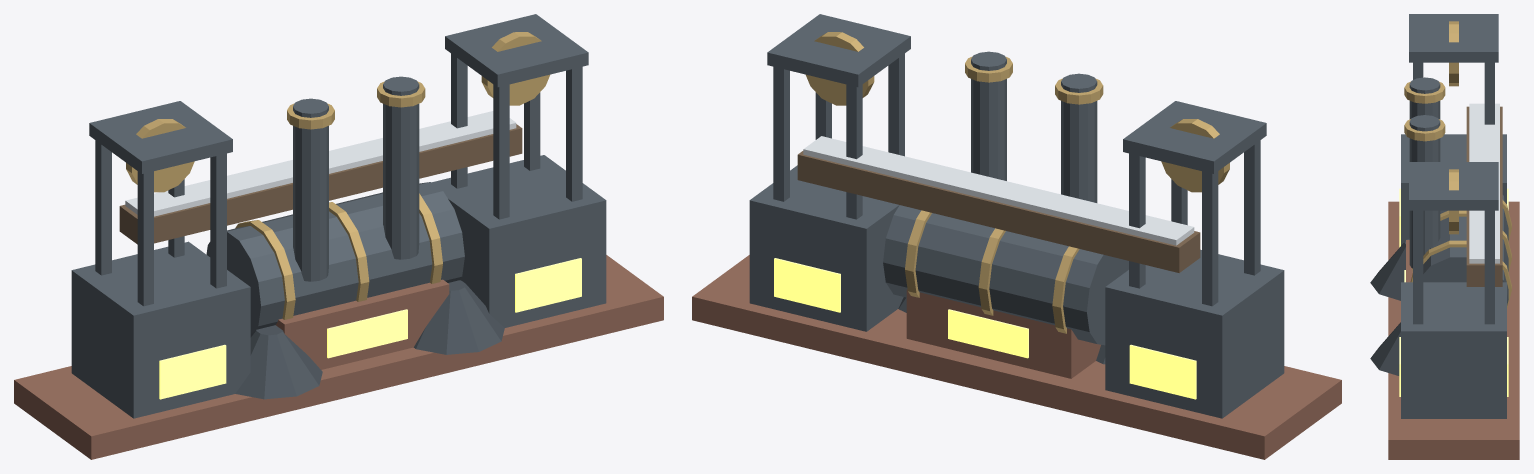
The model's file is advanced_coal_mine.glb.
The picture shows the model from 3 angles, left to right: view 1: azimuth 30°, elevation 25°; view 2: azimuth 150°, elevation 25°; view 3: azimuth 270°, elevation 25°; orthographic projection. The views are drawn at different scales.
Visible parts, largest first — view 1: AdvancedCoalMine; view 2: AdvancedCoalMine; view 3: AdvancedCoalMine.
Part boxes in pixels (left/top/right/bottom): AdvancedCoalMine: left=14, top=14, right=663, bottom=459; AdvancedCoalMine: left=692, top=14, right=1341, bottom=459; AdvancedCoalMine: left=1370, top=14, right=1519, bottom=459.
Bounding box in the file's own units: 5.88 × 2.79 × 1.56.
